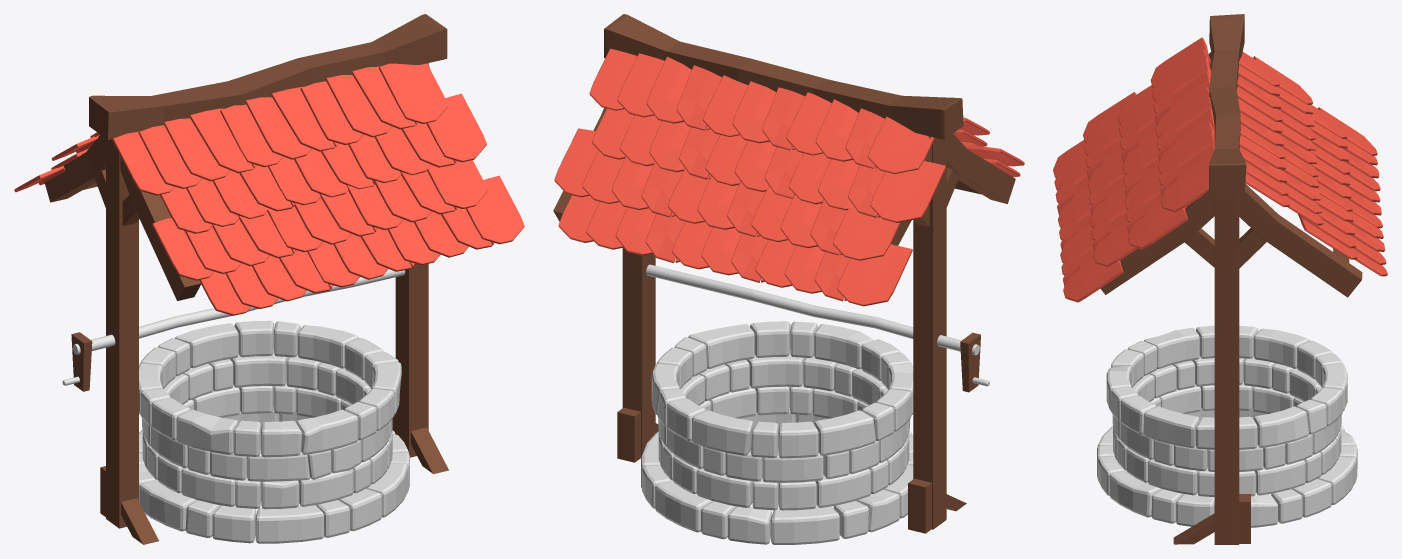
The model's file is Brunnen1.fbx.
3 renders of one model, left to right at view 1: azimuth 30°, elevation 25°; view 2: azimuth 150°, elevation 25°; view 3: azimuth 270°, elevation 25°, orthographic. The views are drawn at different scales.
Visible parts, largest first — view 1: Roof, Wood, Cube.003, Cube.002, Cube, Cube.001, Cylinder; view 2: Roof, Wood, Cube.003, Cube.002, Cube, Cube.001, Cylinder; view 3: Roof, Wood, Cube.003, Cube.002, Cube, Cube.001.
Boxes of the visible parts, bbox=[...] form: Roof: bbox=[14, 63, 524, 315]; Wood: bbox=[44, 14, 448, 544]; Cube.003: bbox=[139, 320, 401, 457]; Cube.002: bbox=[142, 351, 392, 481]; Cube: bbox=[139, 406, 409, 543]; Cube.001: bbox=[142, 382, 392, 509]; Cylinder: bbox=[62, 269, 405, 385]; Roof: bbox=[554, 48, 1024, 306]; Wood: bbox=[553, 14, 1015, 533]; Cube.003: bbox=[651, 321, 913, 458]; Cube.002: bbox=[658, 352, 909, 482]; Cube: bbox=[641, 407, 913, 544]; Cube.001: bbox=[658, 383, 909, 510]; Cylinder: bbox=[646, 264, 989, 386]; Roof: bbox=[1053, 37, 1387, 302]; Wood: bbox=[1100, 14, 1362, 544]; Cube.003: bbox=[1106, 325, 1347, 449]; Cube.002: bbox=[1112, 356, 1341, 471]; Cube: bbox=[1097, 408, 1357, 527]; Cube.001: bbox=[1113, 381, 1341, 497].
Size of the model in its own units: 32.11 by 34.26 by 26.85.
